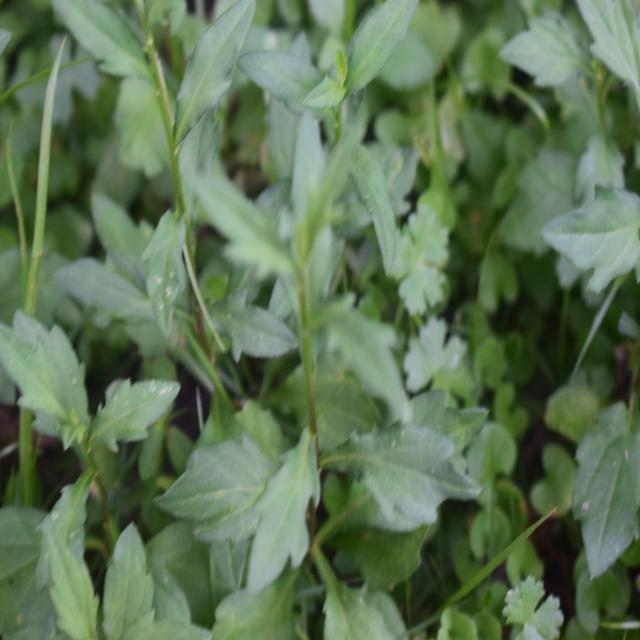Indian aster: (223, 130, 451, 565), (0, 318, 196, 564)
